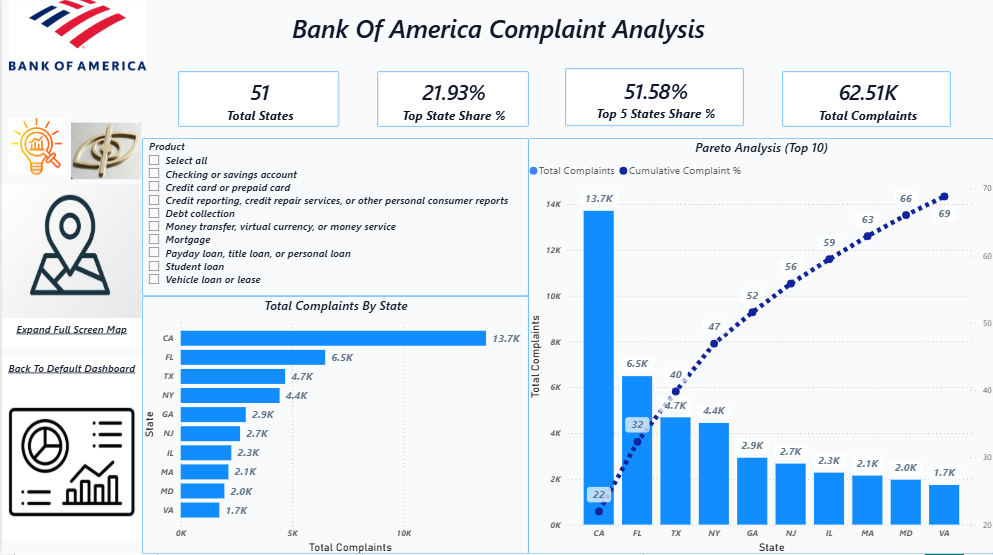

What the dashboard file says about the page in this screenshot:
{"tool":"powerbi","page":{"name":"Geographic Risk & Regional Complaint Concentration","canvas":[1280,720],"ordinal":3},"visuals":[{"type":"cardVisual","fields":{"Data":["Dax Measures.Total Complaints"]},"box":[1006.3,96.4,218.3,72.3],"z":0},{"type":"image","box":[0,242.4,180,172.9],"z":0,"group":"g2"},{"type":"cardVisual","fields":{"Data":["Dax Measures.Top 5 States Share %"]},"box":[727.1,93.5,231,75.1],"z":1000},{"type":"textbox","box":[0,415,180,36.2],"z":1000,"group":"g2"},{"type":"group","id":"g1","title":"Group 1","box":[0,465,180,237.5],"z":2000,"group":"g2"},{"type":"cardVisual","fields":{"Data":["Dax Measures.Total States"]},"box":[226.8,96.4,208.3,72.3],"z":5000},{"type":"textbox","box":[180.1,14.2,919.8,60.9],"z":7000},{"type":"image","box":[0,0,195.6,96.4],"z":8000},{"type":"cardVisual","fields":{"Data":["Dax Measures.Top State Share %"]},"box":[483.3,96.4,195.6,72.3],"z":9000},{"type":"slicer","fields":{"Values":["Complaint Data.Product"]},"box":[180,182.8,498.9,204.1],"z":10000},{"type":"barChart","title":"Total Complaints By State","fields":{"Category":["Complaint Data.State"],"Y":["Dax Measures.Total Complaints"]},"box":[180,386.9,498.9,333.1],"z":12000},{"type":"lineClusteredColumnComboChart","title":"Pareto Analysis (Top 10)","fields":{"Category":["Complaint Data.State"],"Y":["Dax Measures.Total Complaints"],"Y2":["Dax Measures.Cumulative Complaint %"]},"box":[678.9,182.8,600.9,537.2],"z":13000},{"type":"group","id":"g2","title":"Group 2","box":[0,242.4,180,460.1],"z":14000},{"type":"image","box":[0,498.8,180,203.8],"z":15000,"group":"g1"},{"type":"image","box":[0,157.8,89.3,72.9],"z":16000},{"type":"textbox","box":[0,465,180,33.8],"z":16001,"group":"g1"},{"type":"image","box":[89.3,157.8,90.8,84.8],"z":17000}]}

Visuals, with their boxes in screenshot pixels (x1, y1, x2, y2), scaled from the page's 1280x720 canvas onto the 993x555 screenshot:
cardVisual - Dax Measures.Total Complaints: bbox(781, 74, 950, 130)
image: bbox(0, 187, 140, 320)
cardVisual - Dax Measures.Top 5 States Share %: bbox(564, 72, 743, 130)
textbox: bbox(0, 320, 140, 348)
"Group 1" group: bbox(0, 358, 140, 542)
cardVisual - Dax Measures.Total States: bbox(176, 74, 338, 130)
textbox: bbox(140, 11, 853, 58)
image: bbox(0, 0, 152, 74)
cardVisual - Dax Measures.Top State Share %: bbox(375, 74, 527, 130)
slicer - Complaint Data.Product: bbox(140, 141, 527, 298)
"Total Complaints By State" barChart: bbox(140, 298, 527, 554)
"Pareto Analysis (Top 10)" lineClusteredColumnComboChart: bbox(527, 141, 992, 554)
"Group 2" group: bbox(0, 187, 140, 542)
image: bbox(0, 384, 140, 542)
image: bbox(0, 122, 69, 178)
textbox: bbox(0, 358, 140, 384)
image: bbox(69, 122, 140, 187)
